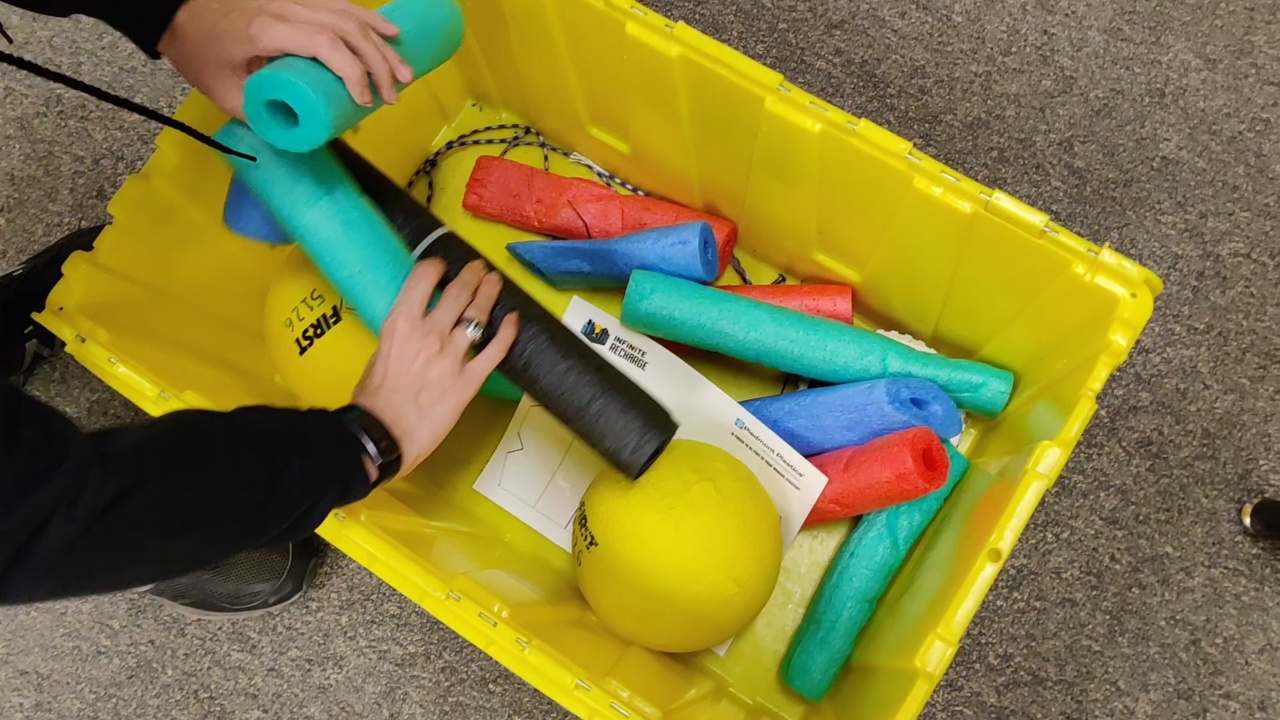Ball: (572, 442, 782, 650)
